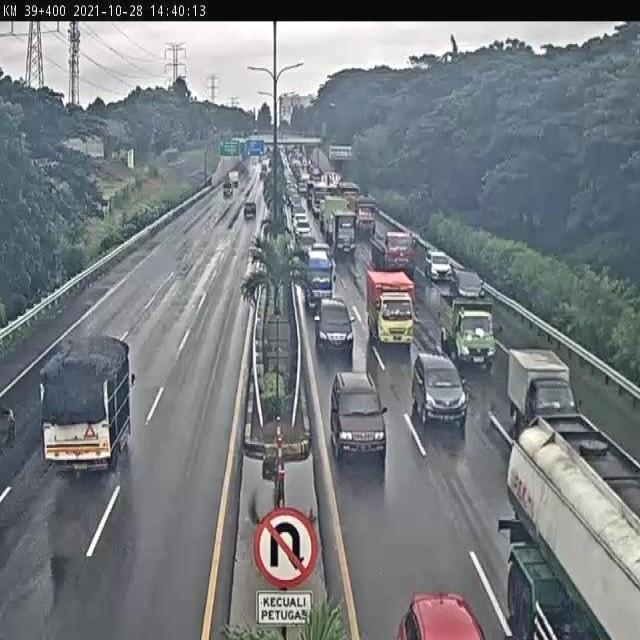Car: (329, 368, 389, 465), (409, 349, 470, 433), (312, 298, 356, 357), (302, 243, 334, 308), (450, 268, 484, 302), (424, 249, 454, 281), (296, 230, 315, 256), (293, 212, 311, 239), (244, 201, 256, 220), (223, 183, 233, 198), (260, 162, 268, 176)
Truck: (498, 411, 640, 640), (38, 337, 132, 478), (506, 347, 570, 431), (437, 294, 495, 371), (364, 268, 416, 349), (370, 227, 413, 276), (321, 195, 352, 248), (355, 203, 377, 240)
Van: (228, 171, 239, 188)
